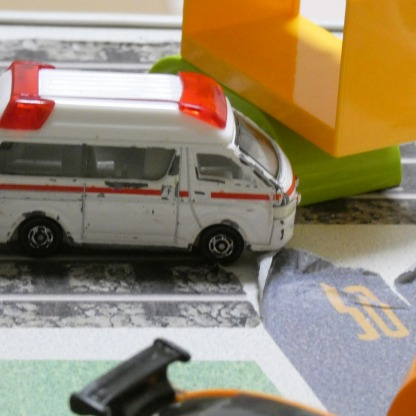car: (0, 62, 295, 268), (65, 334, 362, 416)
